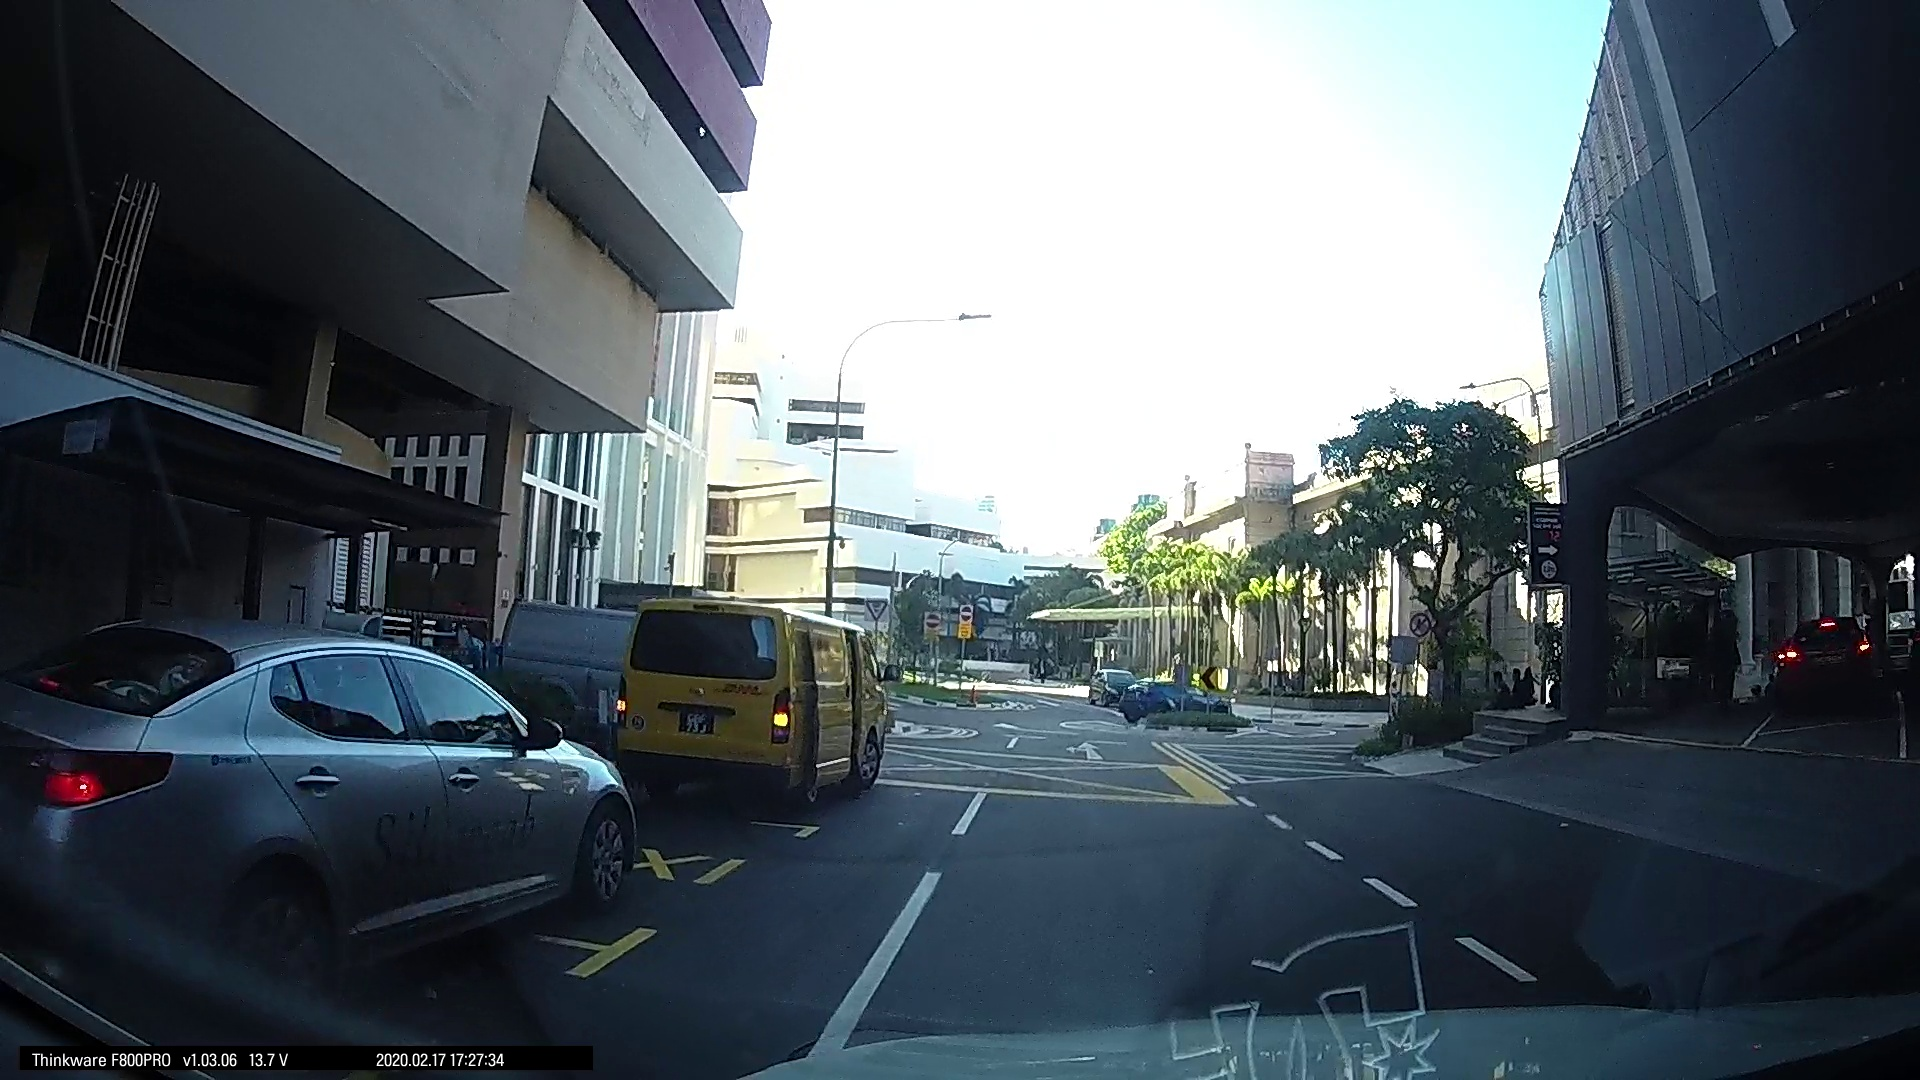Light Vehicle: (7, 622, 641, 996), (604, 592, 884, 814), (1760, 597, 1887, 712), (1117, 669, 1233, 724)
